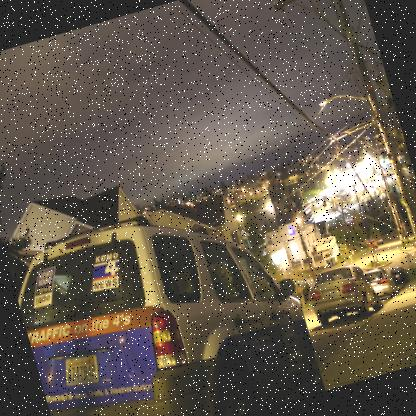Car: (5, 179, 327, 415), (304, 257, 385, 330), (364, 264, 400, 303), (389, 263, 411, 287)
